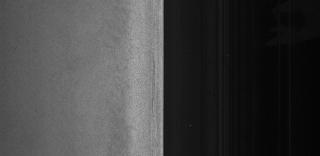silk spot: (150, 76, 158, 138)
